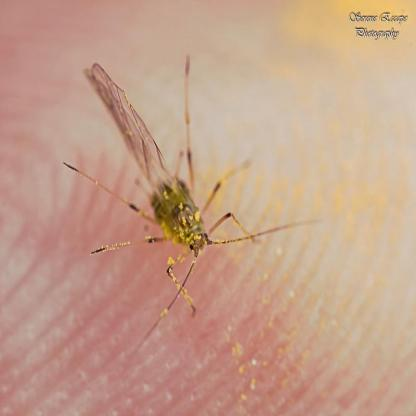aphid: (81, 53, 251, 296)
